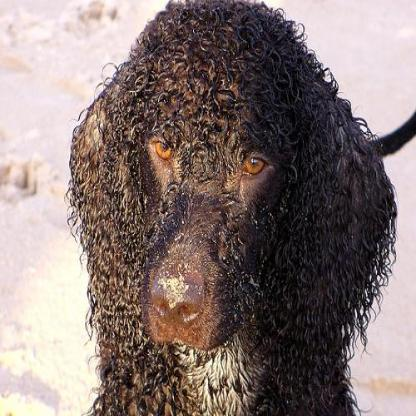Irish_water_spaniel: (66, 11, 414, 413)
